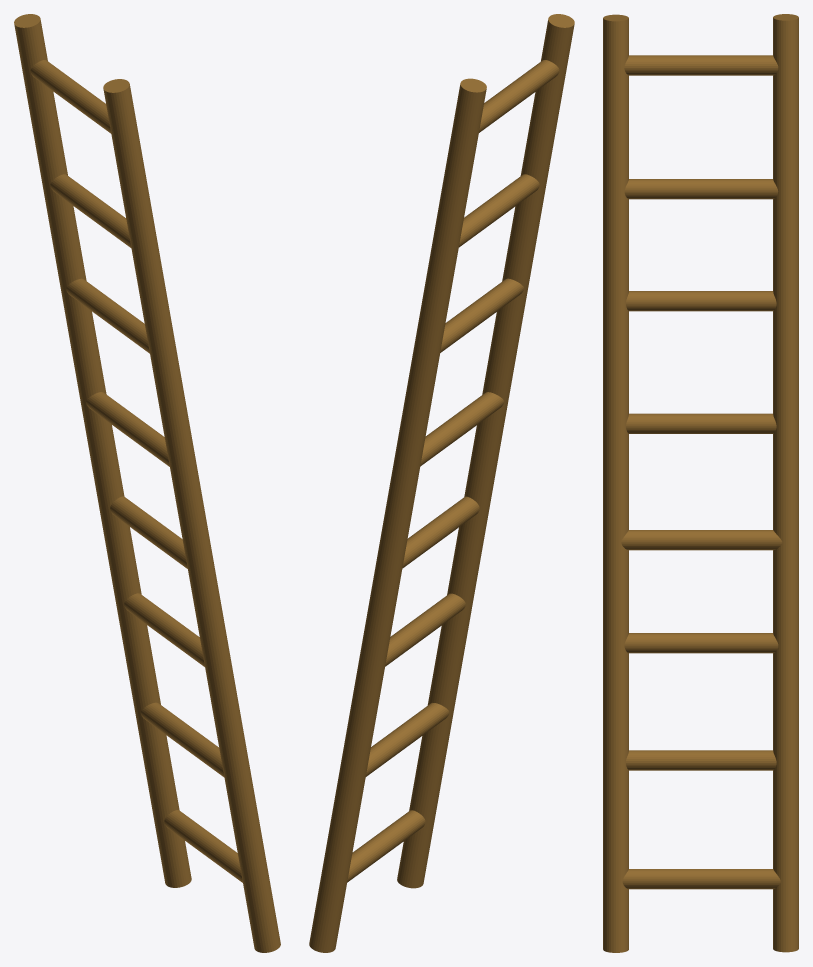
File: Ladder.fbx
3 renders of one model, left to right at view 1: azimuth 30°, elevation 25°; view 2: azimuth 150°, elevation 25°; view 3: azimuth 270°, elevation 25°, orthographic. The views are drawn at different scales.
Visible parts, largest first — view 1: Ladder; view 2: Ladder; view 3: Ladder.
Boxes of the visible parts, x1,y1,x2,y2 form: Ladder: (14,14,280,952); Ladder: (309,14,574,952); Ladder: (603,14,798,952).
Size of the model in its own units: 301 by 1482 by 304.
